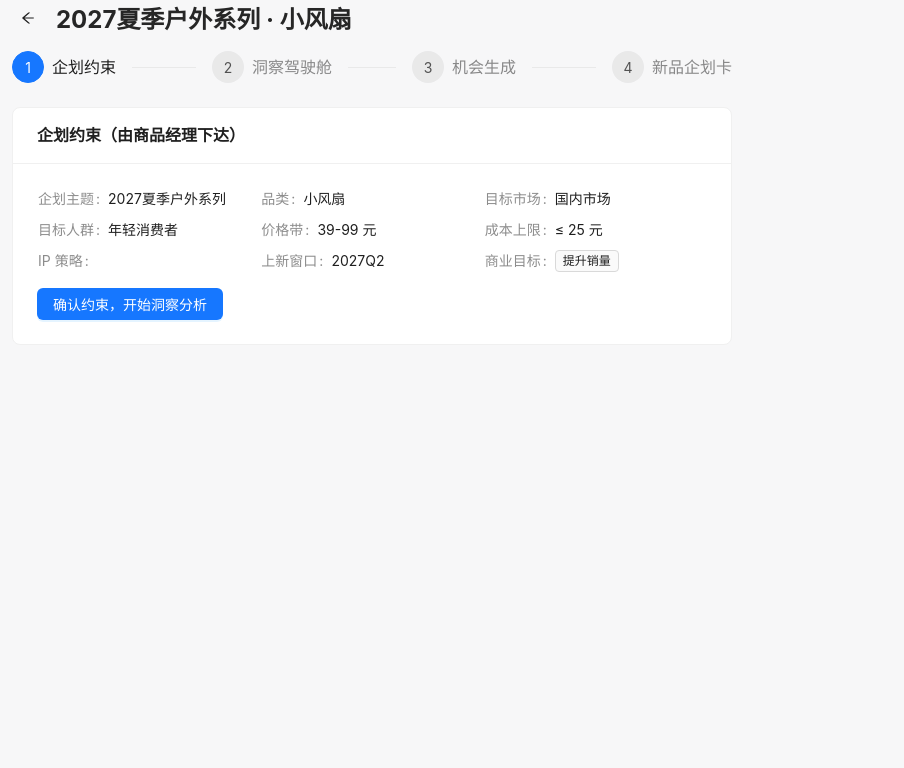
Test: TaskFlow · 洞察生成失败可见性 › 点击重试按钮可重新发起生成，成功后进入下一步
Click the button "确认约束，开始洞察分析" at (130, 304), box [37,288,223,320]
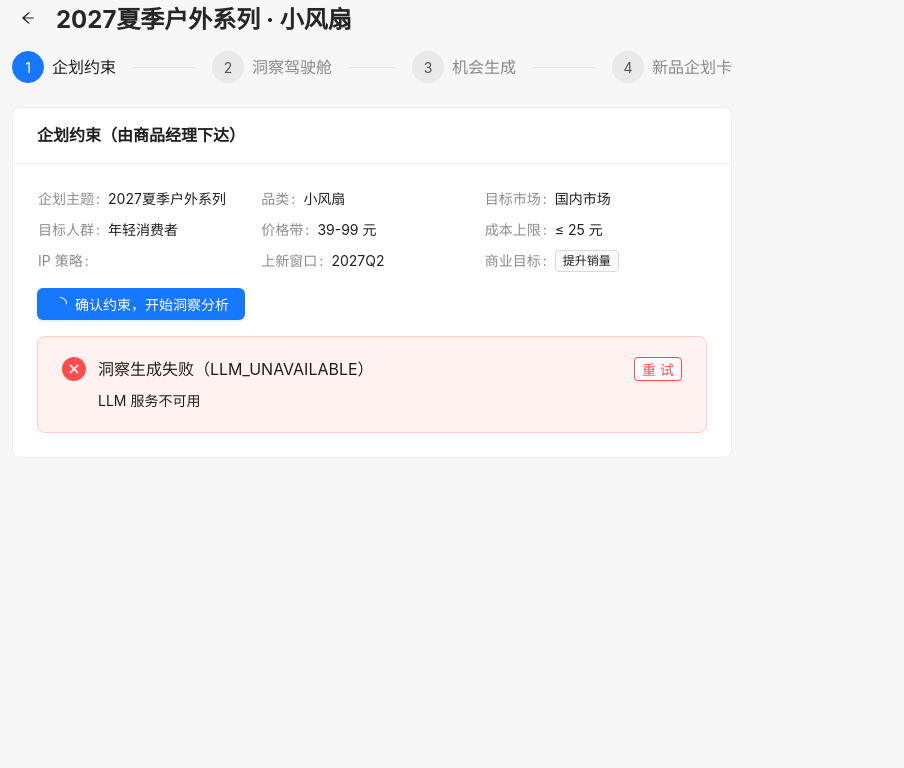
Expected: the text "洞察生成失败（LLM_UNAVAILABLE）" is shown, [98,359,374,379]
// 点重试 → 重新发起
Click the button with test id "insight-retry" at (658, 369), box [634,357,682,381]
(page scrolled)
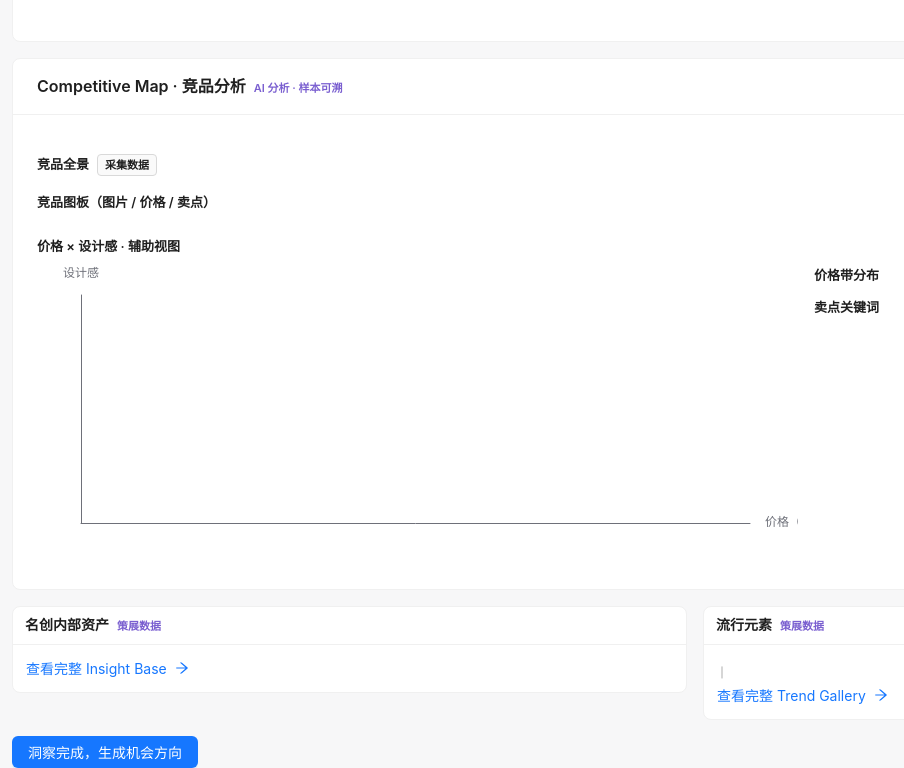
Expected: the text "洞察完成，生成机会方向" is shown, [28,742,182,762]
Expected: the text "洞察生成失败（LLM_UNAVAILABLE）" is gone
